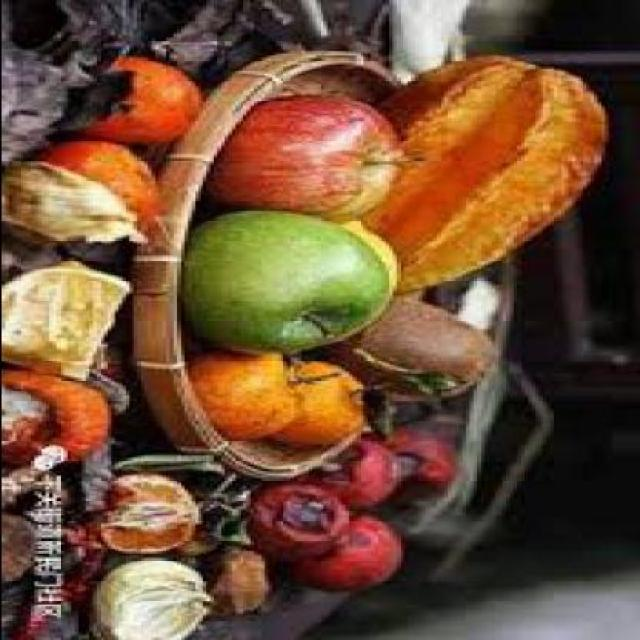BIODEGRADABLE: (365, 56, 608, 293), (184, 211, 398, 353), (208, 96, 401, 221), (330, 295, 495, 396), (1, 260, 130, 379), (4, 161, 142, 242), (2, 369, 111, 466), (85, 56, 202, 144), (91, 559, 212, 640), (189, 351, 299, 439), (40, 140, 159, 219), (291, 516, 402, 589), (99, 475, 199, 553), (250, 484, 349, 562), (280, 362, 362, 445), (322, 436, 400, 508), (385, 425, 456, 483), (62, 520, 108, 602), (212, 549, 269, 614), (200, 492, 249, 546), (82, 444, 112, 512), (92, 374, 132, 411)
